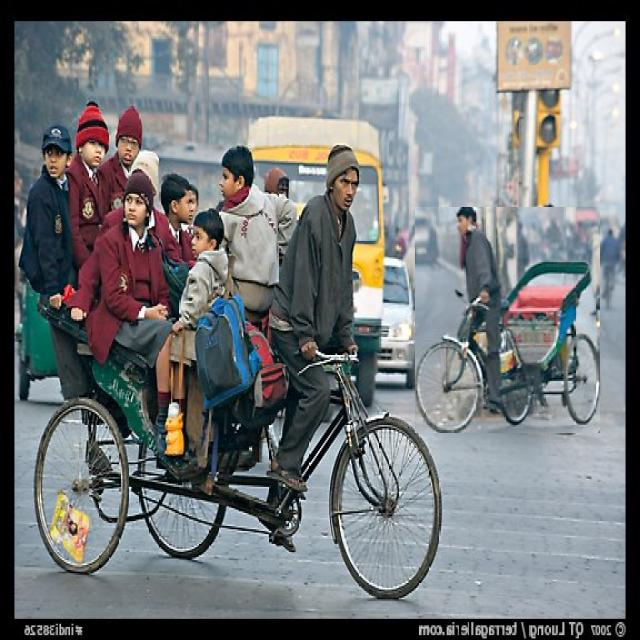bicycle: (20, 103, 441, 598), (415, 207, 600, 433)
